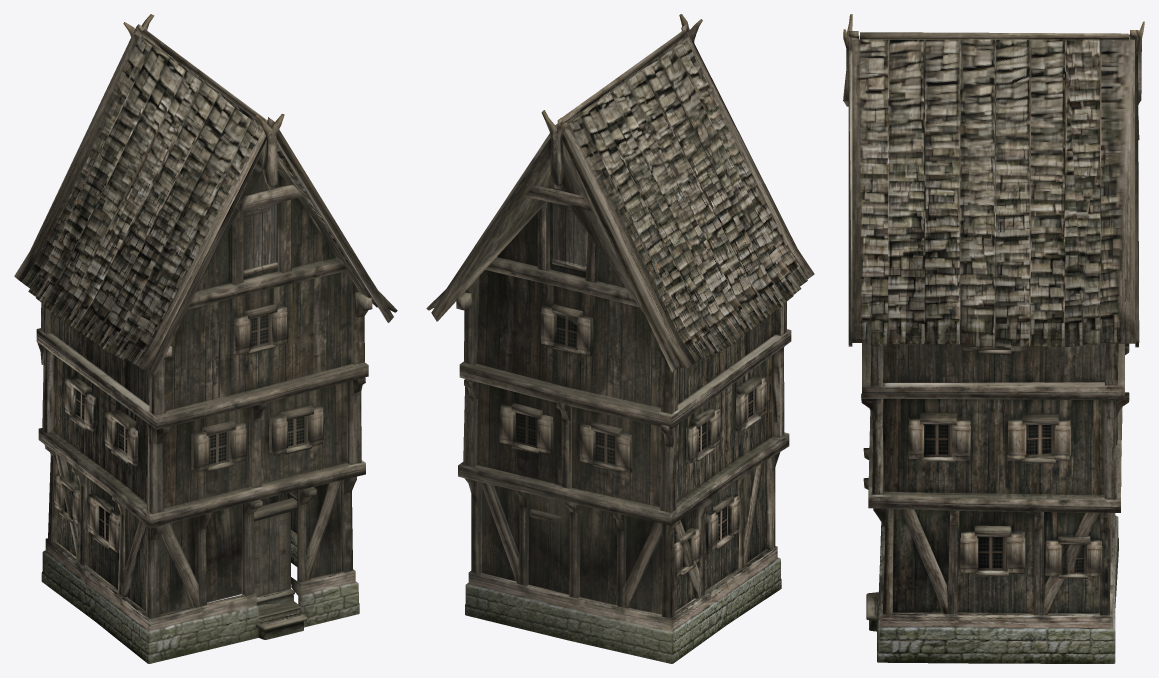
Rendered from house1.glb.
The picture shows the model from 3 angles, left to right: view 1: azimuth 30°, elevation 25°; view 2: azimuth 150°, elevation 25°; view 3: azimuth 270°, elevation 25°; orthographic projection. The views are drawn at different scales.
Visible parts, largest first — view 1: tripo_node_1300061b-0567-4446-b174-ac9137c67a81; view 2: tripo_node_1300061b-0567-4446-b174-ac9137c67a81; view 3: tripo_node_1300061b-0567-4446-b174-ac9137c67a81.
Part boxes in pixels (x1,y1,x2,y2): tripo_node_1300061b-0567-4446-b174-ac9137c67a81: [14, 14, 397, 663]; tripo_node_1300061b-0567-4446-b174-ac9137c67a81: [426, 14, 814, 663]; tripo_node_1300061b-0567-4446-b174-ac9137c67a81: [843, 14, 1144, 663].
Bounding box in the file's own units: 0.521 × 0.9995 × 0.4653.
Materials: 1 (1 with a texture image).
